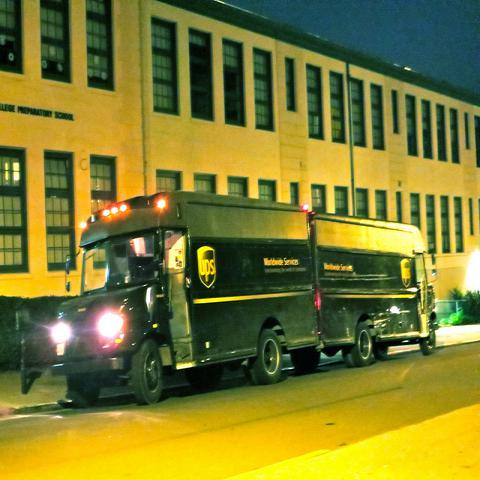truck: (56, 196, 430, 416)
